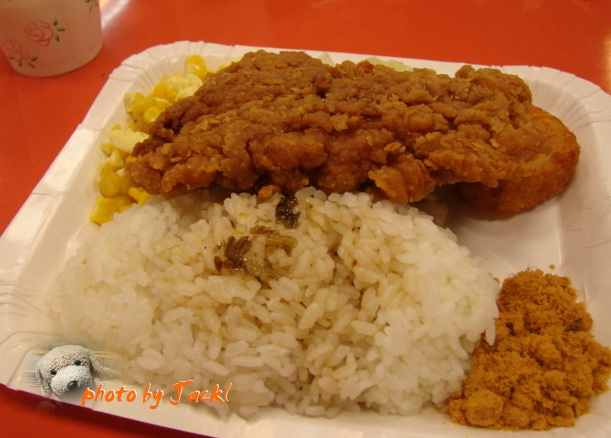fried_chicken: (136, 48, 537, 201)
rice: (72, 216, 439, 359)
